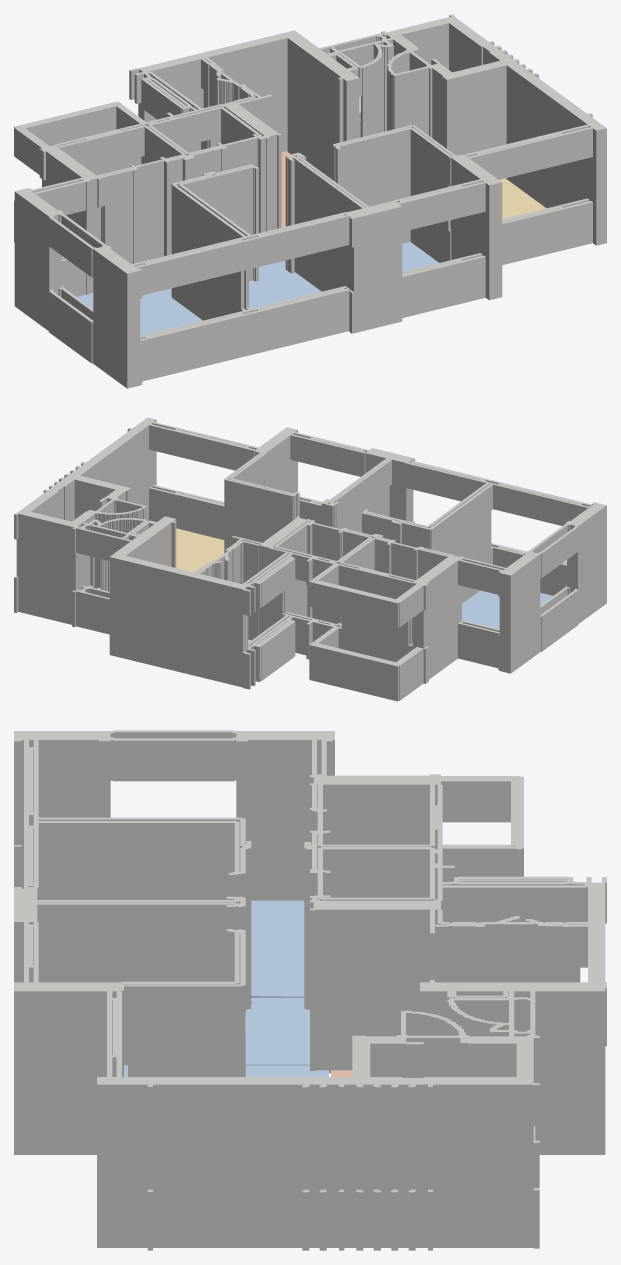
The picture shows the model from 3 angles, top to bottom: view 1: azimuth 30°, elevation 25°; view 2: azimuth 150°, elevation 25°; view 3: azimuth 270°, elevation 25°; orthographic projection. The views are drawn at different scales.
Parts seen in each view (by area): view 1: walls, room:bedroom:9, room:bedroom:8, room:living:11, room:bedroom:10; view 2: walls, room:living:11, room:bedroom:8; view 3: walls, room:bedroom:8, room:bedroom:9, room:bedroom:10.
Part boxes in pixels (<box>): walls: <box>14,14,606,388</box>; room:bedroom:9: <box>249,260,321,308</box>; room:bedroom:8: <box>77,288,202,335</box>; room:living:11: <box>499,178,545,218</box>; room:bedroom:10: <box>402,242,438,271</box>; walls: <box>14,417,606,701</box>; room:living:11: <box>176,528,224,572</box>; room:bedroom:8: <box>462,590,552,629</box>; walls: <box>14,730,606,1250</box>; room:bedroom:8: <box>251,900,304,998</box>; room:bedroom:9: <box>245,997,309,1065</box>; room:bedroom:10: <box>124,1065,328,1076</box>.
Size of the model in its own units: 13.1 by 2.8 by 9.2.
